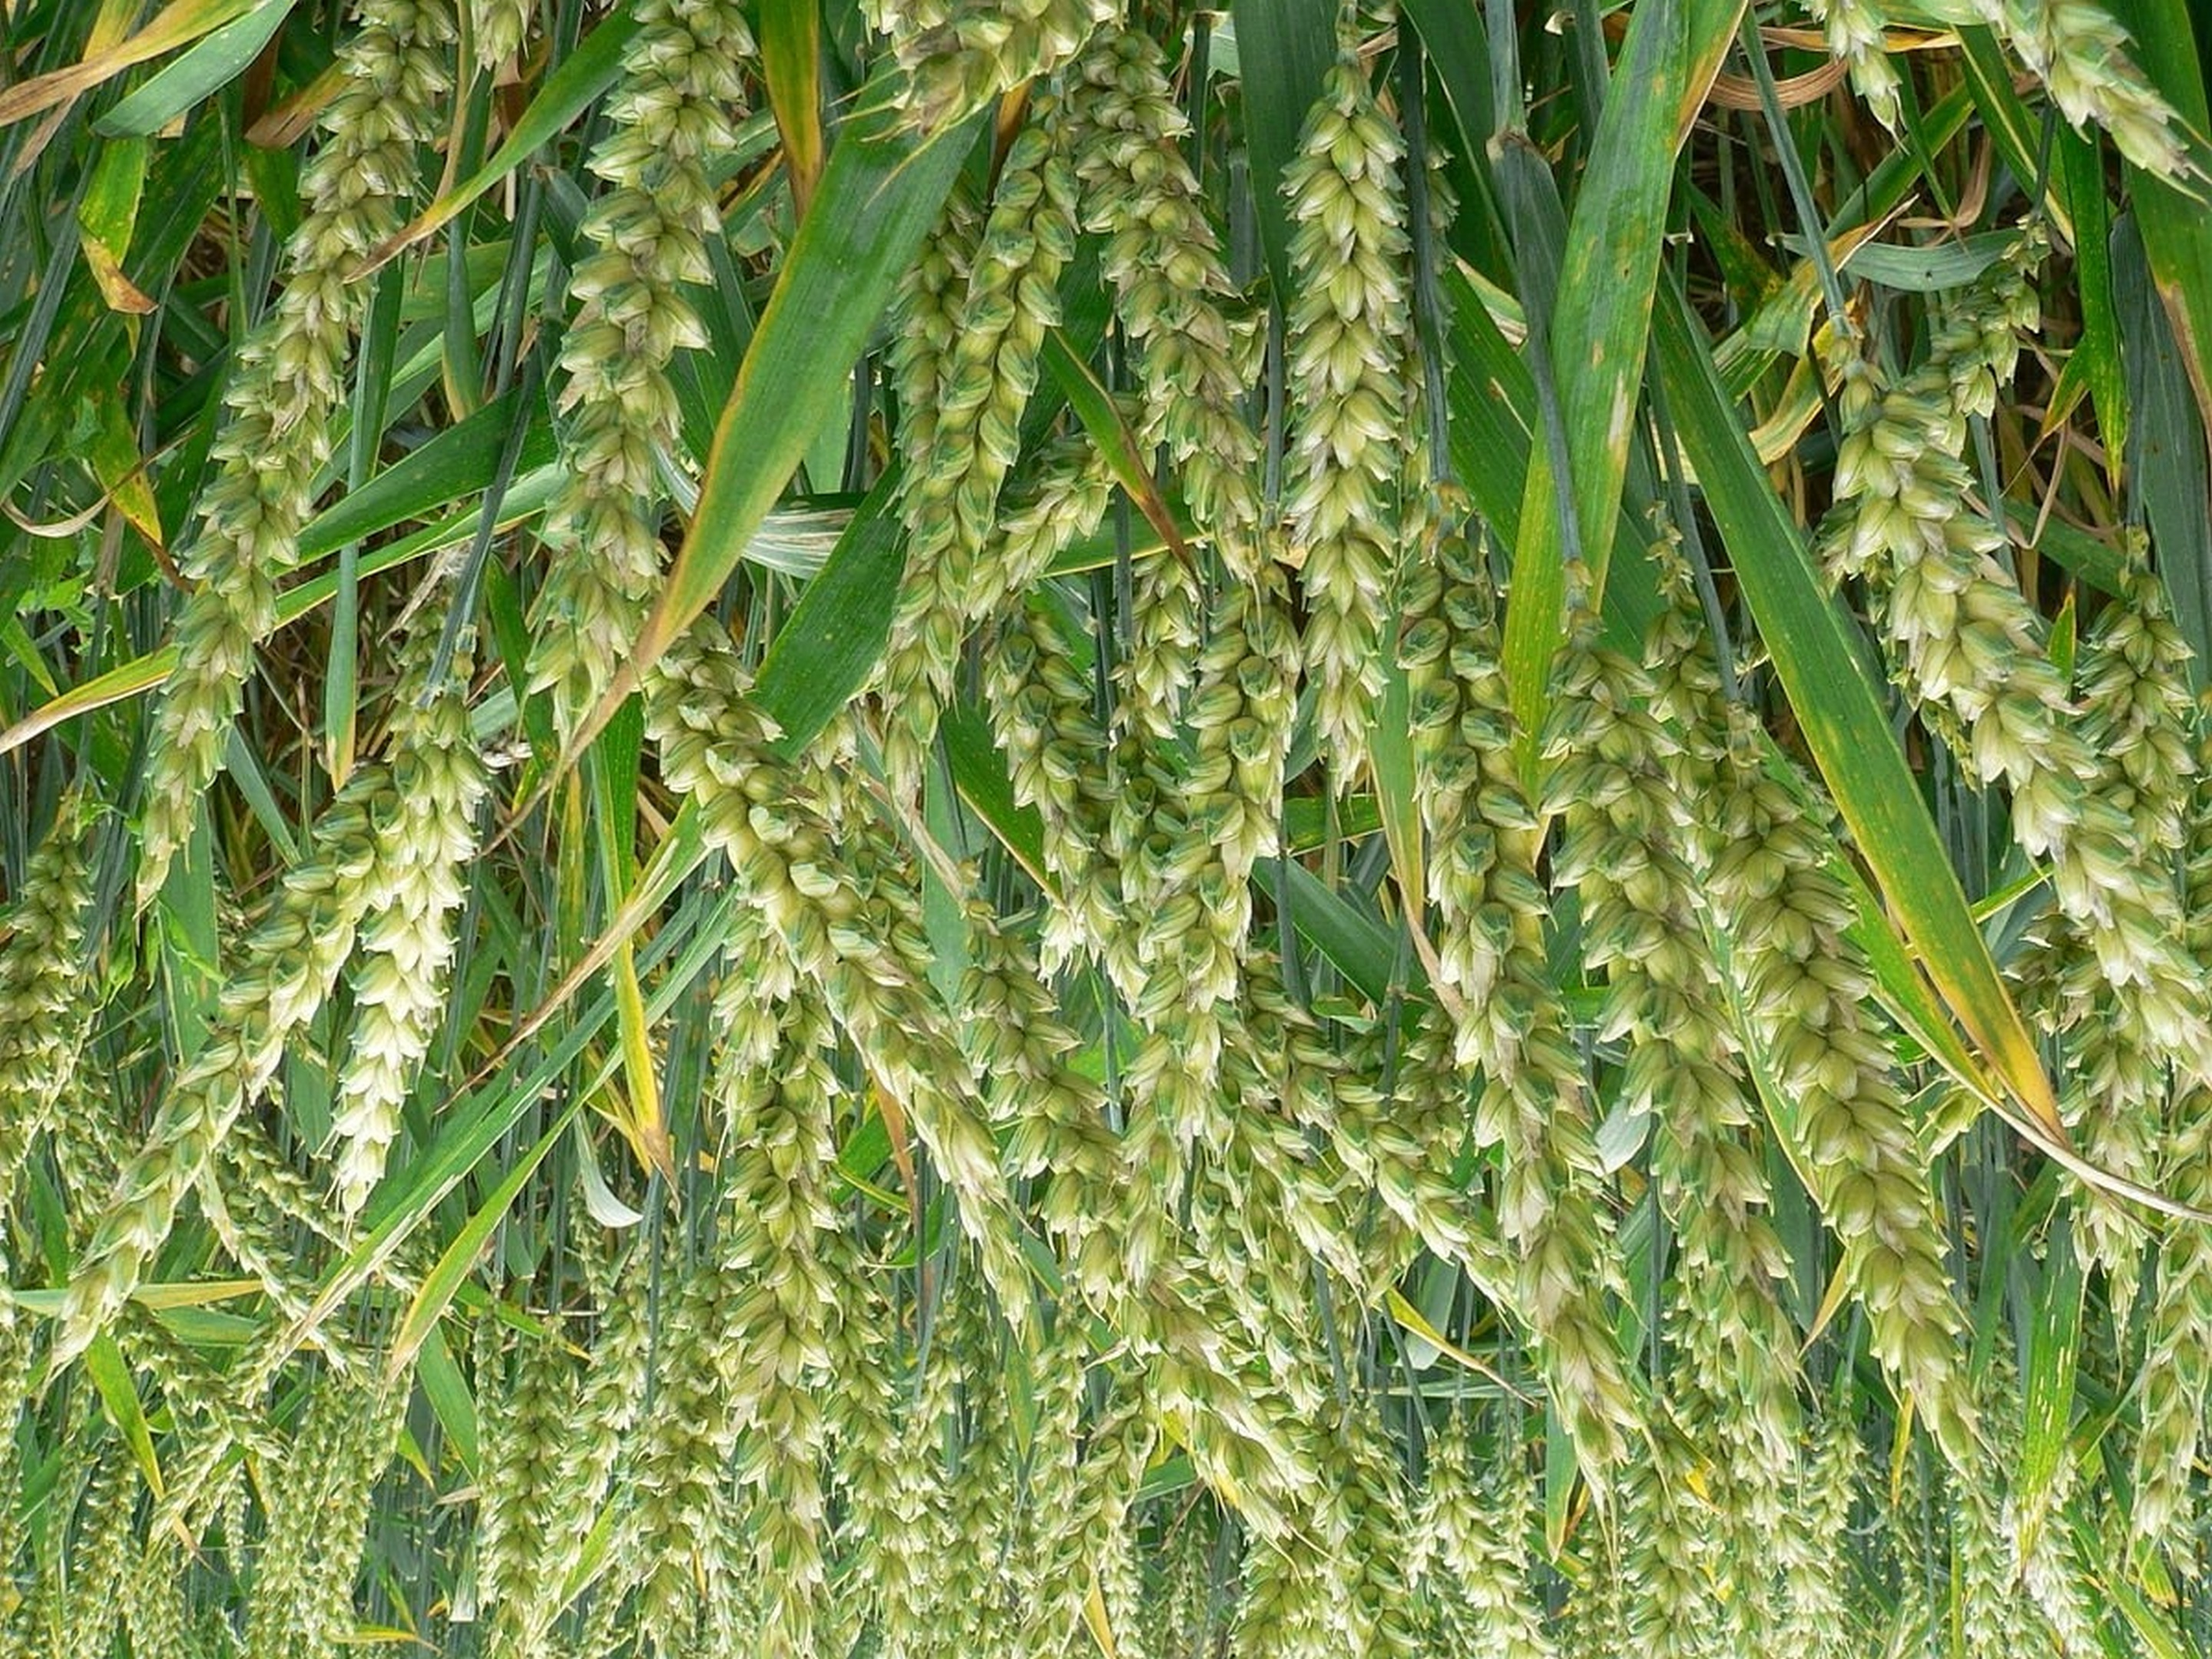Healthy Wheat: (853, 42, 1264, 727), (1695, 727, 2005, 1368), (495, 2, 787, 674)
